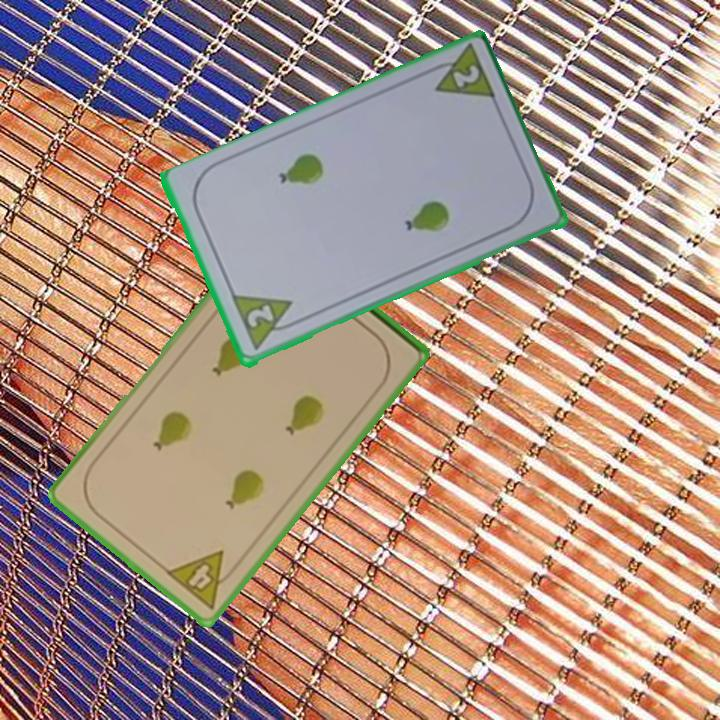2p: (421, 43, 499, 105), (243, 301, 277, 332)
4p: (162, 547, 243, 613)
